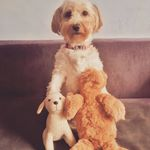puppy: (45, 1, 109, 115)
